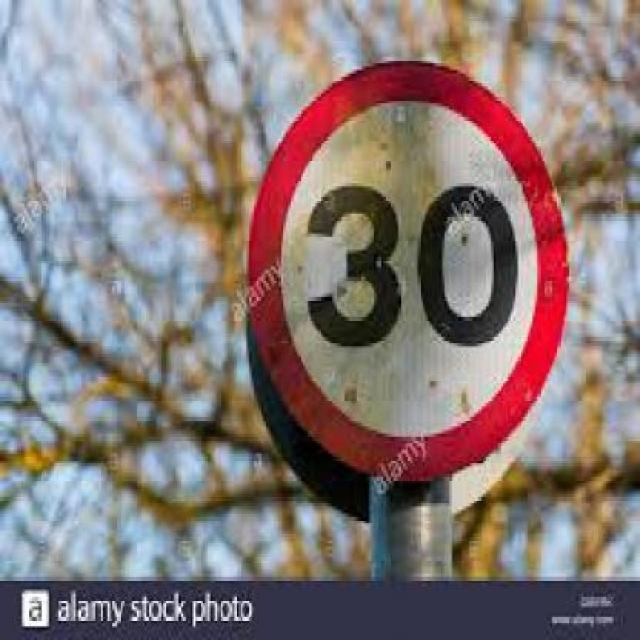forb_speed_over_30: (244, 63, 576, 480)
